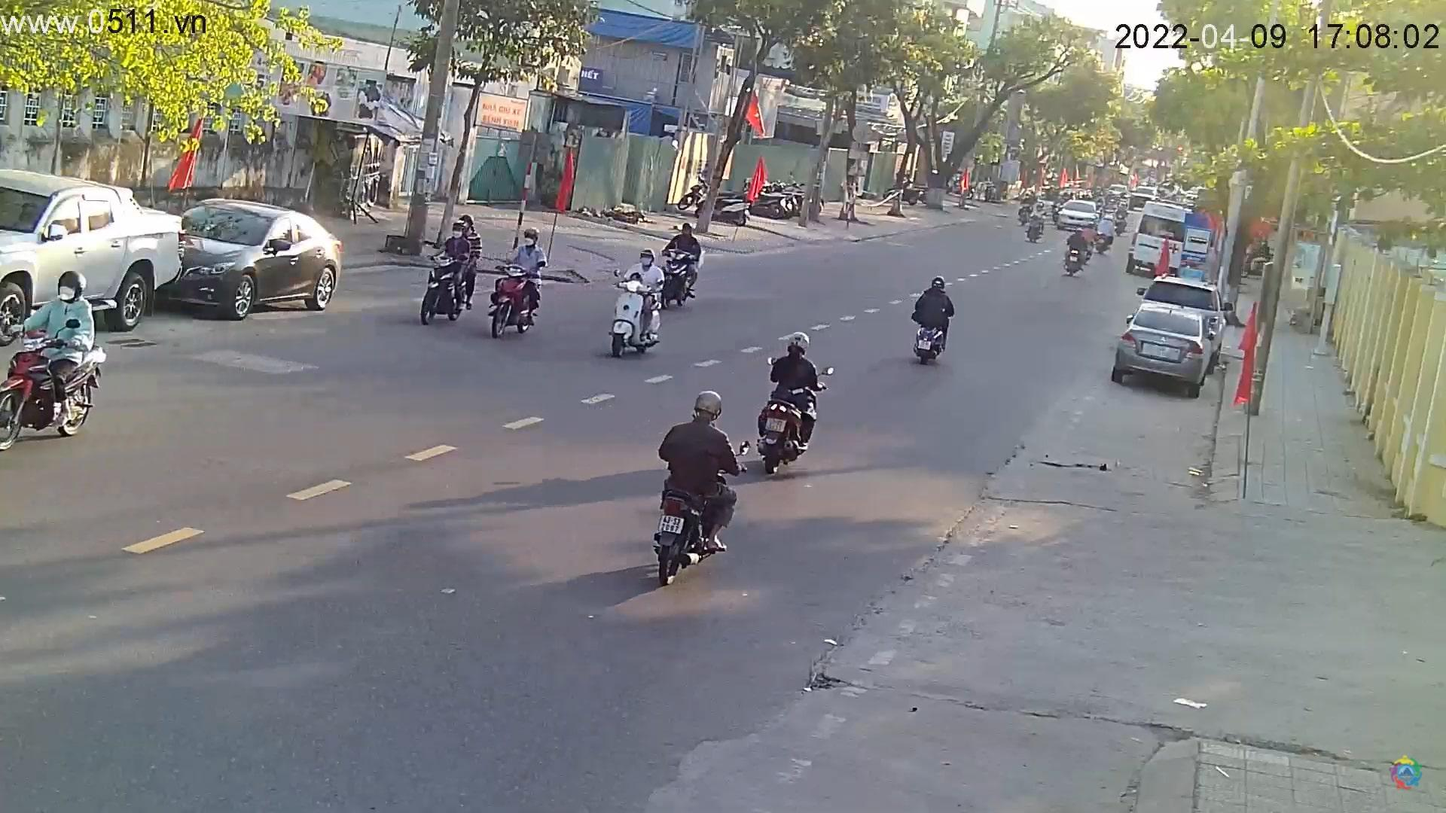car: (2, 167, 184, 339), (169, 200, 351, 322)
motorbike: (0, 295, 104, 452), (411, 238, 475, 321), (489, 253, 544, 339), (608, 279, 668, 357), (650, 243, 701, 303)
